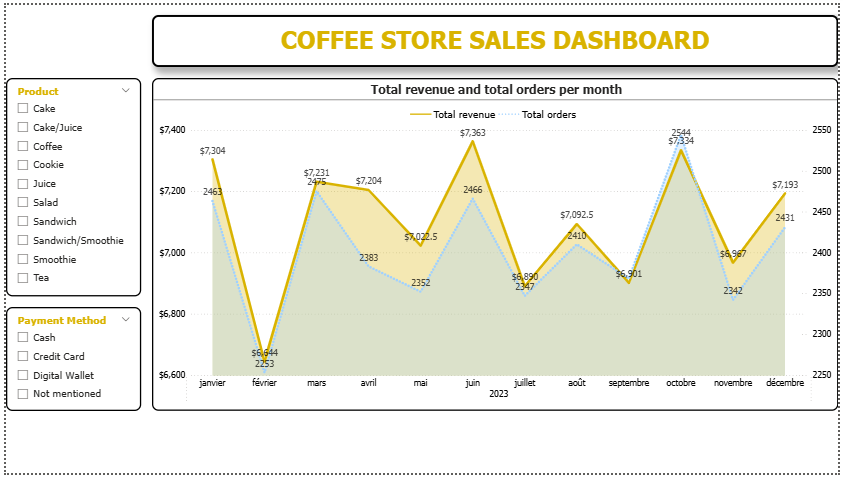

What the dashboard file says about the page in this screenshot:
{"tool":"powerbi","page":{"name":"Page 2","canvas":[1280,720],"ordinal":2},"visuals":[{"type":"textbox","box":[224,16,1056,80],"z":0},{"type":"lineChart","title":"Total revenue and total orders per month","fields":{"Y":["Sum(dirty_cafe_sales_all_cleaned.Total Spent)"],"Category":["dirty_cafe_sales_all_cleaned.Transaction Date.Variation.Hiérarchie de dates.Année","dirty_cafe_sales_all_cleaned.Transaction Date.Variation.Hiérarchie de dates.Mois"],"Y2":["Sum(dirty_cafe_sales_all_cleaned.Quantity)"]},"box":[224,112,1056,512],"z":1000},{"type":"slicer","fields":{"Values":["dirty_cafe_sales_all_cleaned.Item"]},"box":[0,112,208,336],"z":2000},{"type":"slicer","fields":{"Values":["dirty_cafe_sales_all_cleaned.Payment Method"]},"box":[0,464,208,160],"z":3000}]}

Visuals, with their boxes in screenshot pixels (x1, y1, x2, y2), scaled from the page's 1280x720 canvas onto the 843x478 screenshot:
textbox: 148 11 842 64
"Total revenue and total orders per month" lineChart: 148 74 842 414
slicer - dirty_cafe_sales_all_cleaned.Item: 0 74 137 297
slicer - dirty_cafe_sales_all_cleaned.Payment Method: 0 308 137 414
